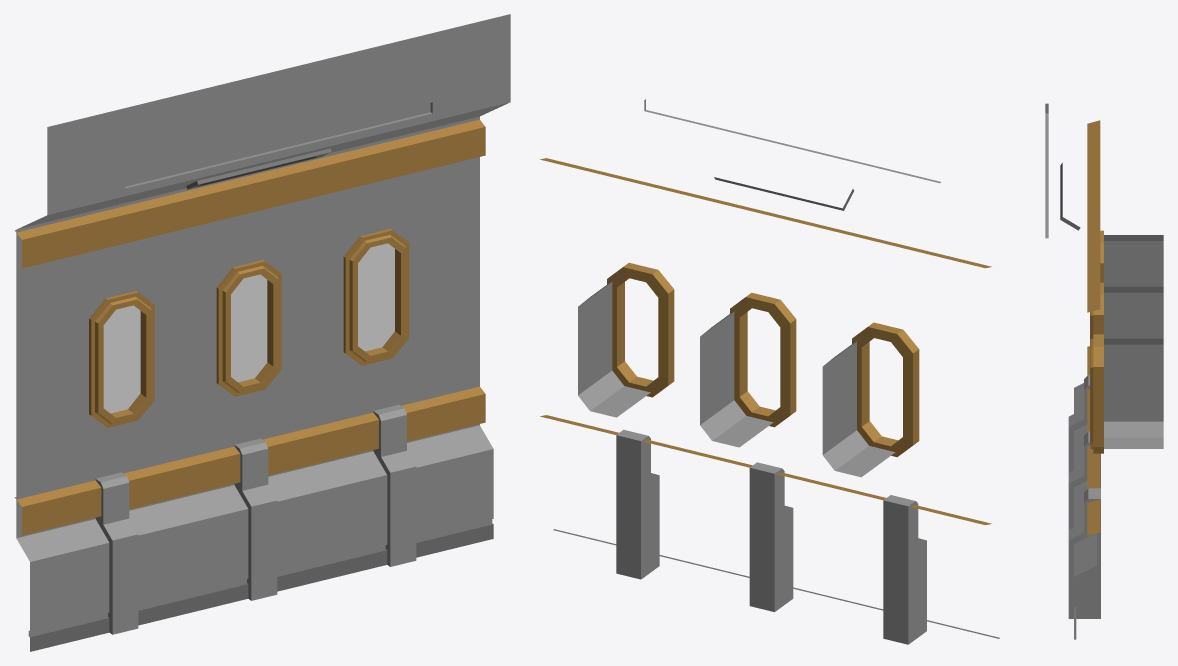
3 renders of one model, left to right at view 1: azimuth 30°, elevation 25°; view 2: azimuth 150°, elevation 25°; view 3: azimuth 270°, elevation 25°, orthographic. The views are drawn at different scales.
Visible parts, largest first — view 1: ThreeWindows_Wall_SideA; view 2: ThreeWindows_Wall_SideA; view 3: ThreeWindows_Wall_SideA.
Boxes of the visible parts, box(x1,y1,x2,y2) form: ThreeWindows_Wall_SideA: box(14, 14, 510, 651); ThreeWindows_Wall_SideA: box(539, 99, 999, 644); ThreeWindows_Wall_SideA: box(1045, 103, 1163, 639).
Bounding box in the file's own units: 4 × 4.43 × 1.06.
